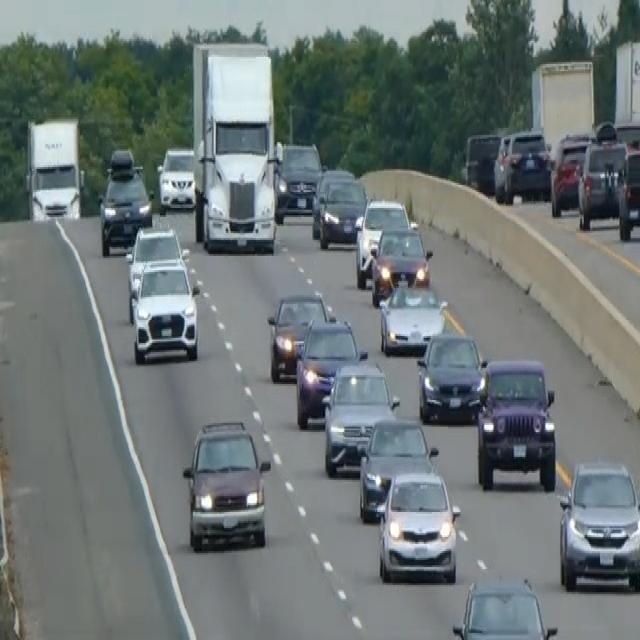car: (181, 416, 271, 551), (558, 457, 639, 592), (475, 356, 556, 490), (376, 466, 460, 583), (321, 357, 399, 475), (357, 414, 437, 521), (294, 314, 366, 428), (131, 256, 200, 364), (451, 574, 558, 638), (416, 329, 486, 423), (266, 288, 331, 382), (124, 224, 186, 320), (378, 272, 448, 356), (369, 222, 432, 306), (354, 196, 410, 286), (97, 164, 153, 254), (577, 135, 627, 229), (493, 128, 551, 204), (549, 132, 594, 215), (275, 139, 322, 217), (318, 176, 368, 249), (310, 166, 354, 237), (156, 144, 195, 213), (463, 130, 501, 192), (616, 144, 639, 240), (0, 428, 9, 592), (614, 119, 639, 153)
lorry: (190, 39, 279, 254)
